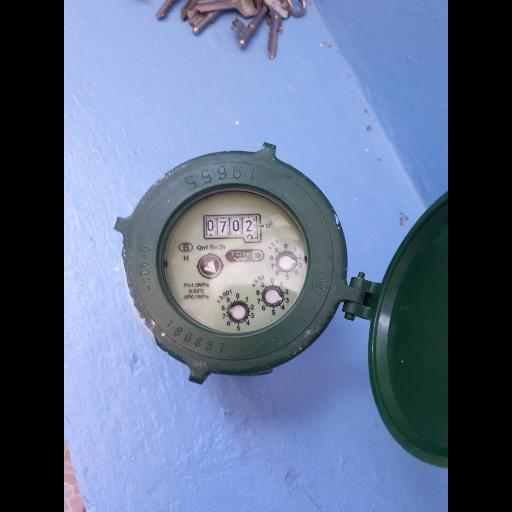0: (230, 217, 243, 236), (205, 218, 217, 236)
2: (242, 217, 258, 240)
7: (217, 217, 231, 236)
border_water_meter_number: (203, 214, 262, 245)
